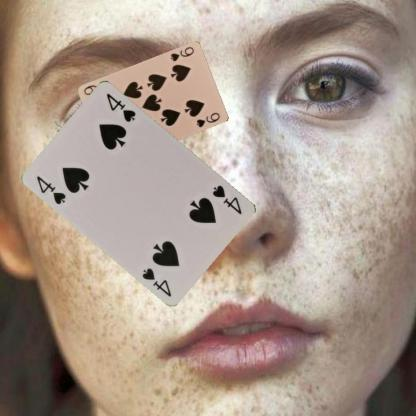4s: (210, 182, 244, 216), (34, 172, 68, 206)
9s: (168, 44, 194, 63)
